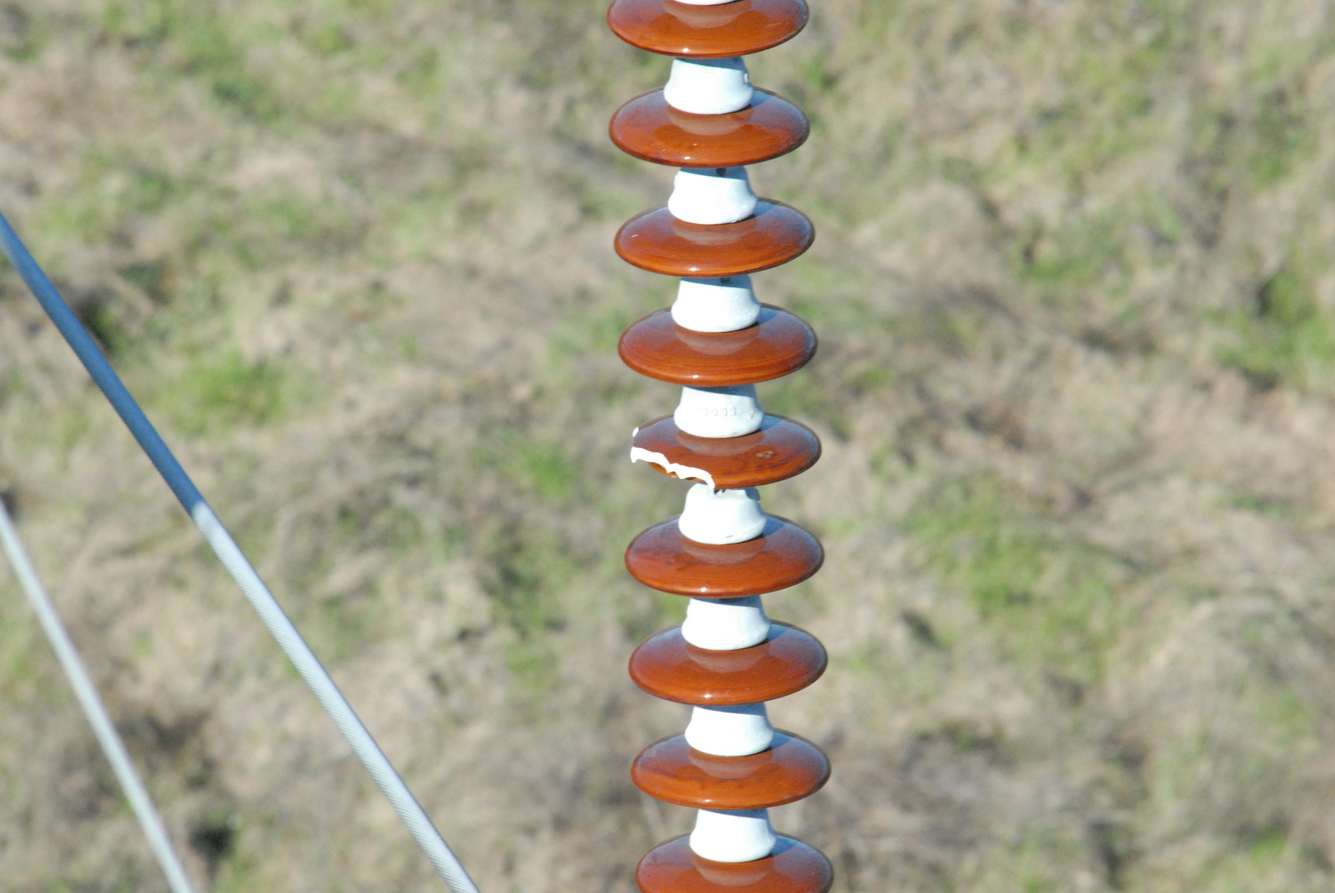damaged: (620, 411, 735, 492)
insulator: (604, 0, 839, 893)
